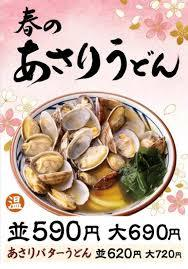asari: (7, 87, 186, 222)
